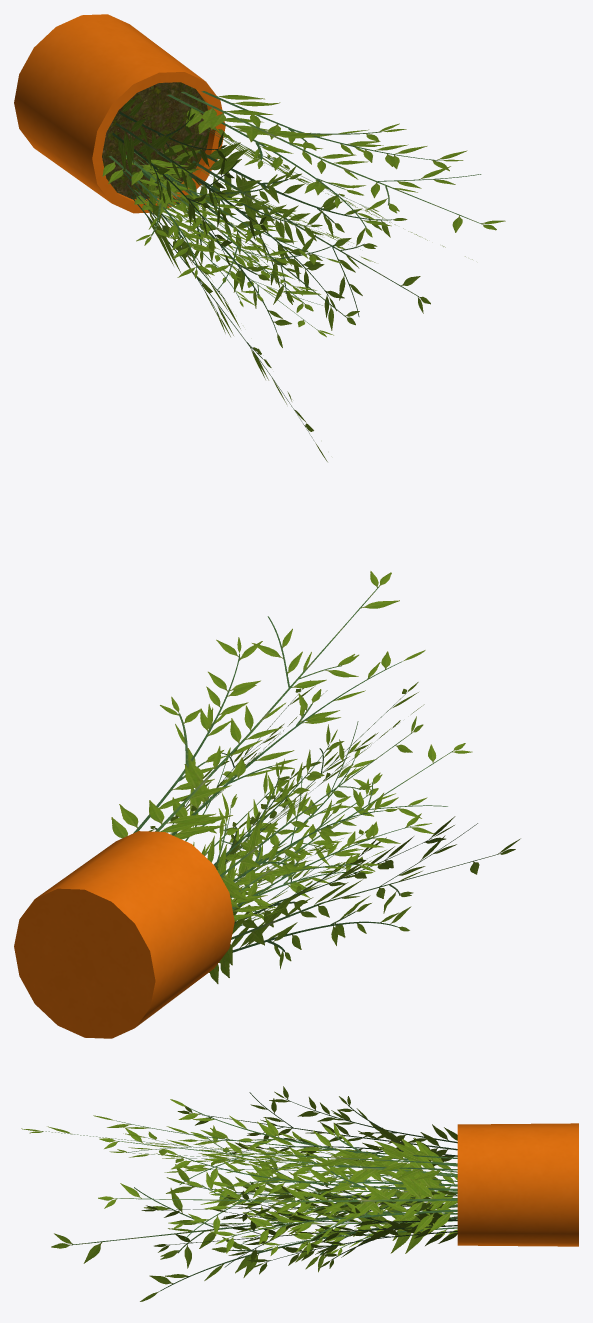
3 renders of one model, top to bottom at view 1: azimuth 30°, elevation 25°; view 2: azimuth 150°, elevation 25°; view 3: azimuth 270°, elevation 25°, orthographic. The views are drawn at different scales.
Visible parts, largest first — view 1: Pot_11_Low_PolyPlant_0; view 2: Pot_11_Low_PolyPlant_0; view 3: Pot_11_Low_PolyPlant_0.
Boxes of the visible parts, bbox=[...] form: Pot_11_Low_PolyPlant_0: bbox=[14, 14, 505, 461]; Pot_11_Low_PolyPlant_0: bbox=[14, 571, 520, 1038]; Pot_11_Low_PolyPlant_0: bbox=[21, 1086, 578, 1301].
Size of the model in its own units: 0.9064 by 0.8938 by 1.96.
Materials: 1 (1 with a texture image).
